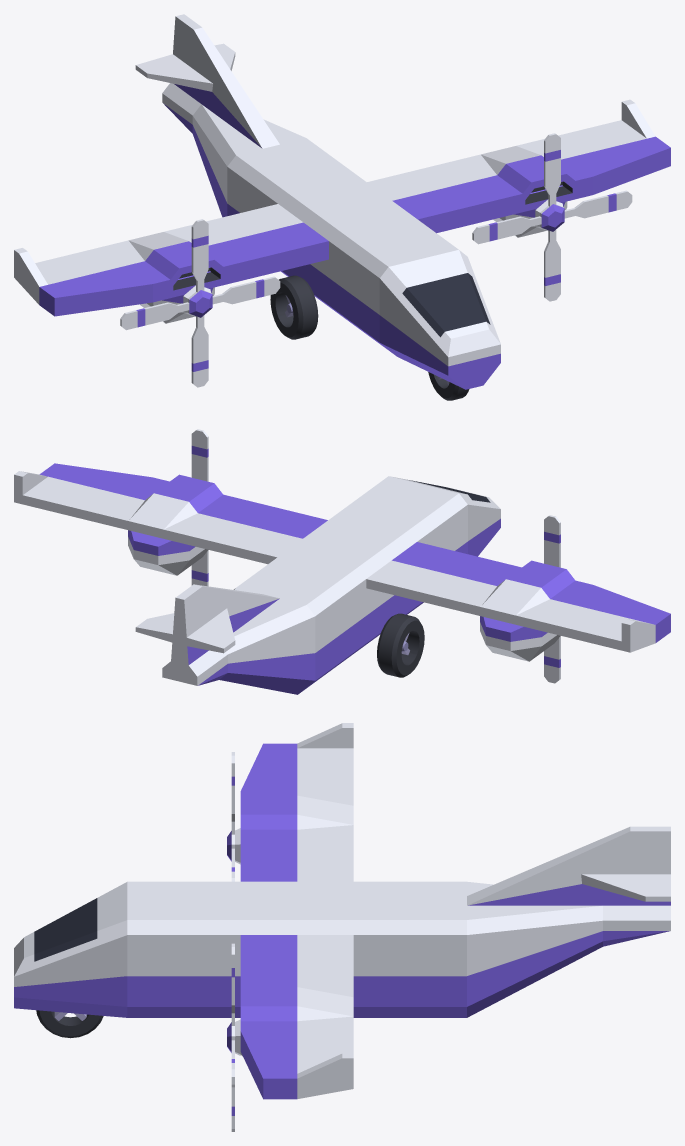
3 views of the same model, one above another, from view 1: azimuth 30°, elevation 25°; view 2: azimuth 150°, elevation 25°; view 3: azimuth 270°, elevation 25° (orthographic). The views are drawn at different scales.
Parts seen in each view (by area): view 1: mergedBlocks; view 2: mergedBlocks; view 3: mergedBlocks.
Boxes of the visible parts, <box> form: mergedBlocks: <box>14,14,670,400</box>; mergedBlocks: <box>14,429,670,694</box>; mergedBlocks: <box>14,723,670,1131</box>.
Bounding box in the file's own units: 700 × 201 × 580.
